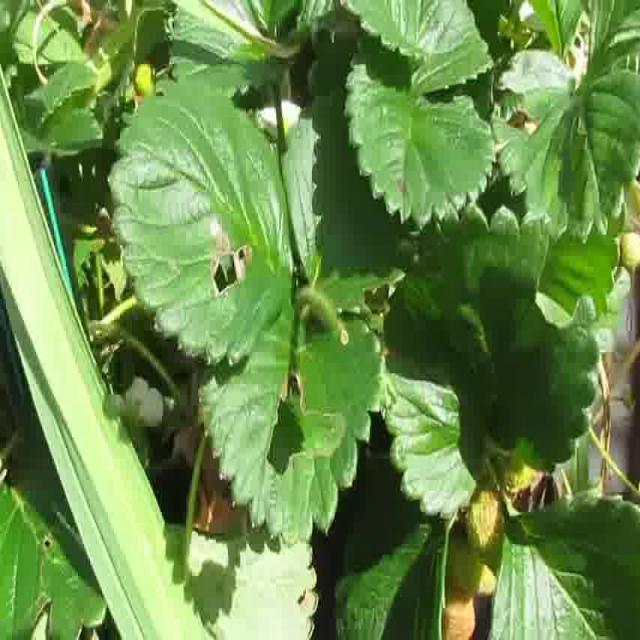Fruta sana: (444, 521, 484, 604), (498, 436, 548, 494), (466, 486, 506, 554), (436, 585, 476, 640), (134, 63, 156, 94)
